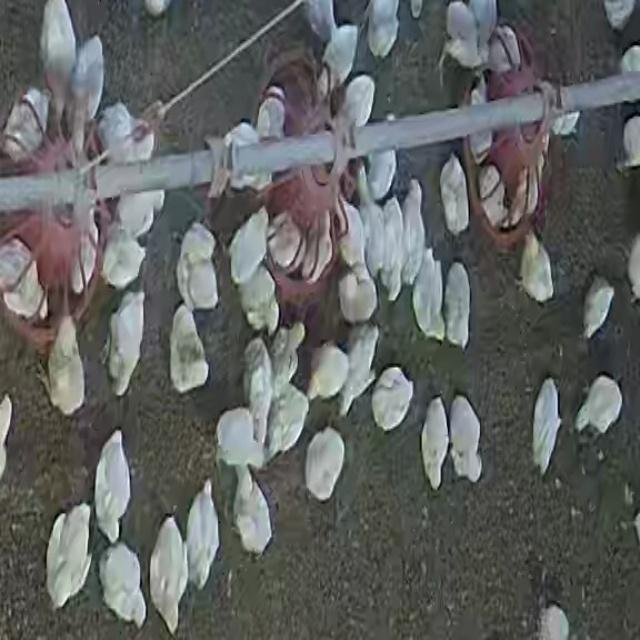chicken: (39, 1, 78, 144), (66, 36, 106, 165), (46, 504, 94, 610), (148, 516, 188, 632), (92, 428, 132, 544), (46, 312, 88, 419), (106, 293, 146, 402), (100, 538, 148, 628), (174, 222, 219, 312), (96, 102, 156, 169), (184, 478, 220, 588), (230, 468, 274, 558), (338, 324, 380, 414), (1, 88, 51, 163), (219, 120, 267, 197), (168, 305, 208, 397), (0, 241, 45, 322), (228, 208, 272, 288), (213, 408, 267, 472), (242, 338, 274, 442), (266, 382, 309, 458), (419, 393, 452, 490), (448, 394, 483, 484), (304, 428, 346, 503), (575, 374, 623, 438), (100, 226, 146, 292), (238, 261, 279, 333), (532, 378, 562, 476), (441, 3, 482, 73), (379, 195, 405, 304), (370, 367, 413, 432), (412, 252, 444, 339), (399, 180, 426, 282), (306, 342, 351, 403), (359, 188, 386, 286), (518, 232, 554, 304), (72, 204, 100, 296), (320, 24, 359, 88), (439, 155, 470, 235), (444, 262, 472, 350), (337, 268, 378, 328), (464, 75, 492, 161), (113, 187, 160, 238), (338, 195, 368, 273), (270, 322, 304, 388), (339, 75, 376, 135), (366, 126, 396, 198), (269, 211, 305, 271), (581, 278, 615, 340), (364, 0, 400, 58), (305, 211, 333, 285), (485, 22, 522, 76), (478, 165, 509, 229), (467, 0, 498, 63), (256, 89, 287, 141), (304, 0, 337, 46), (522, 168, 540, 218), (409, 0, 424, 19)
